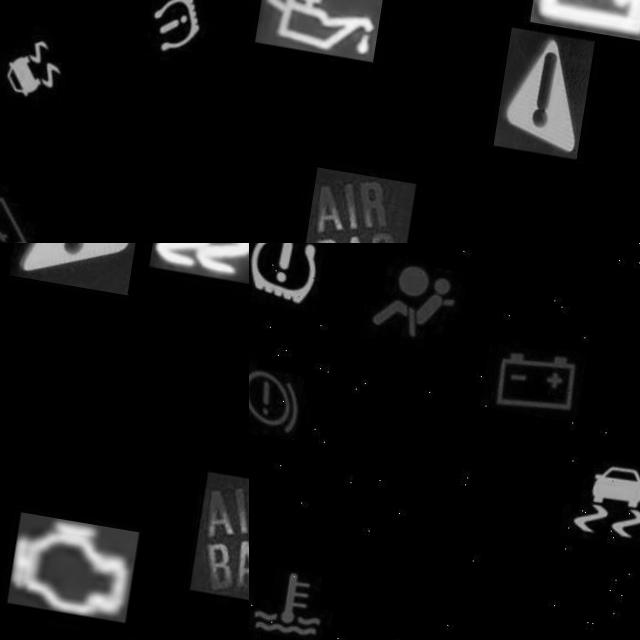Central Warning lamp: (501, 17, 598, 146), (15, 243, 147, 285)
